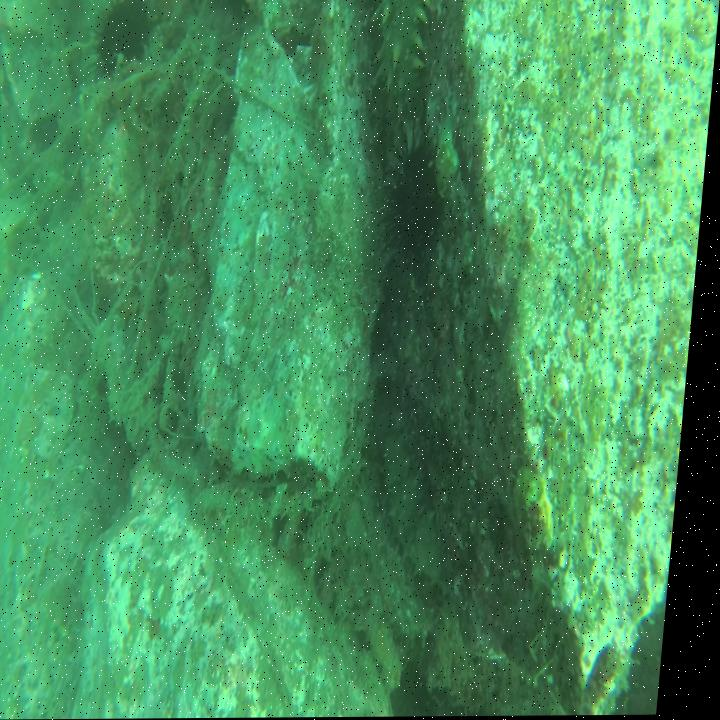echinus: (371, 136, 460, 272), (84, 2, 165, 80)
holothurian: (380, 433, 459, 581), (368, 0, 435, 130)
